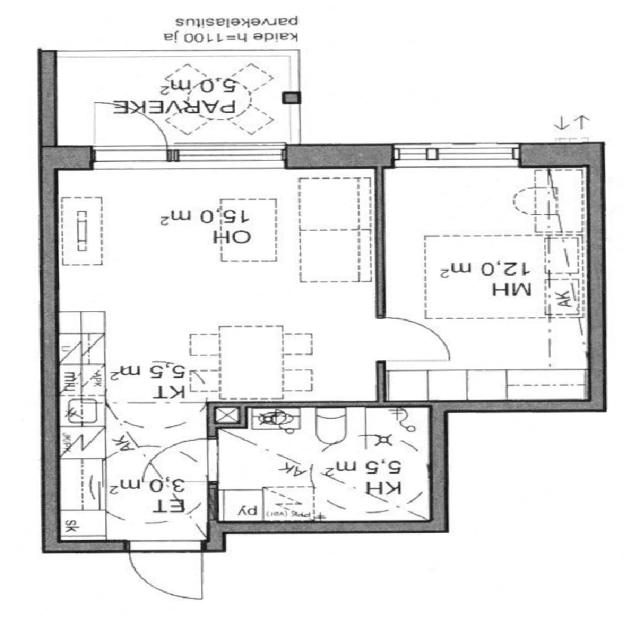door: (101, 420, 219, 484), (85, 101, 182, 163), (370, 310, 461, 370), (121, 544, 208, 602), (162, 436, 222, 478), (105, 400, 163, 429)
window: (384, 140, 528, 168)
zone: (54, 160, 378, 412), (378, 160, 592, 404), (211, 405, 434, 527), (69, 413, 220, 496)
